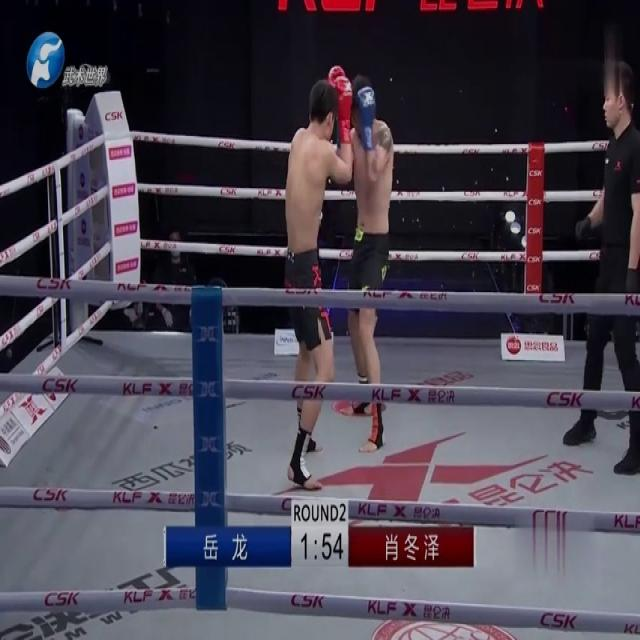fight: (280, 66, 397, 493)
non-fight: (570, 54, 639, 470)
